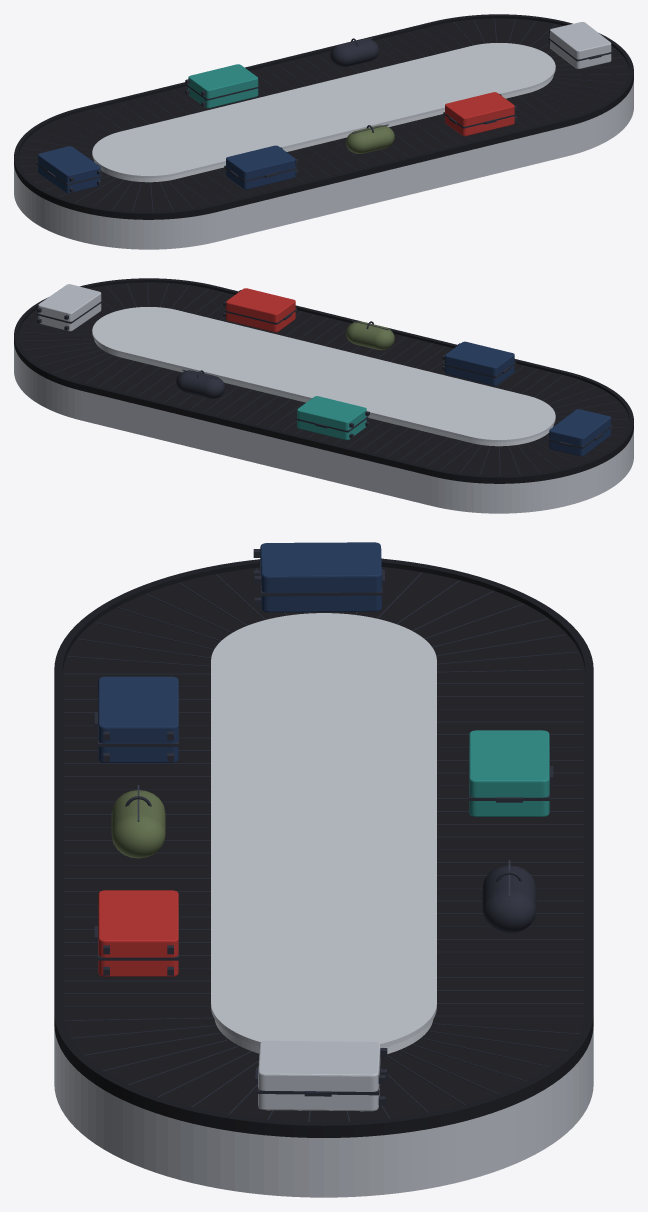
The model's file is air-017.glb.
3 views of the same model, one above another, from view 1: azimuth 30°, elevation 25°; view 2: azimuth 150°, elevation 25°; view 3: azimuth 270°, elevation 25° (orthographic). The views are drawn at different scales.
Parts seen in each view (by area): view 1: belt, island_cap, skirt, shell (×5), bumper, body (×2), island; view 2: belt, island_cap, skirt, shell (×5), bumper, body (×2), island; view 3: belt, island_cap, shell (×5), skirt, bumper, body (×2).
Boxes of the visible parts, x1,y1,x2,y2 form: belt: (18, 18, 629, 211); island_cap: (92, 43, 555, 178); skirt: (14, 80, 633, 249); shell (×5): (38, 22, 611, 193); bumper: (14, 14, 633, 219); body (×2): (330, 38, 394, 153); island: (94, 76, 553, 182); belt: (18, 282, 629, 475); island_cap: (92, 307, 555, 442); skirt: (14, 344, 633, 513); shell (×5): (38, 284, 610, 456); bumper: (14, 278, 633, 483); body (×2): (176, 321, 394, 399); island: (94, 340, 553, 446); belt: (62, 567, 585, 1122); island_cap: (211, 613, 436, 1047); shell (×5): (98, 542, 549, 1111); skirt: (54, 1027, 593, 1197); bumper: (54, 558, 593, 1137); body (×2): (111, 790, 536, 933).
Bounding box in the file's own units: 8 × 0.763 × 3.2.
